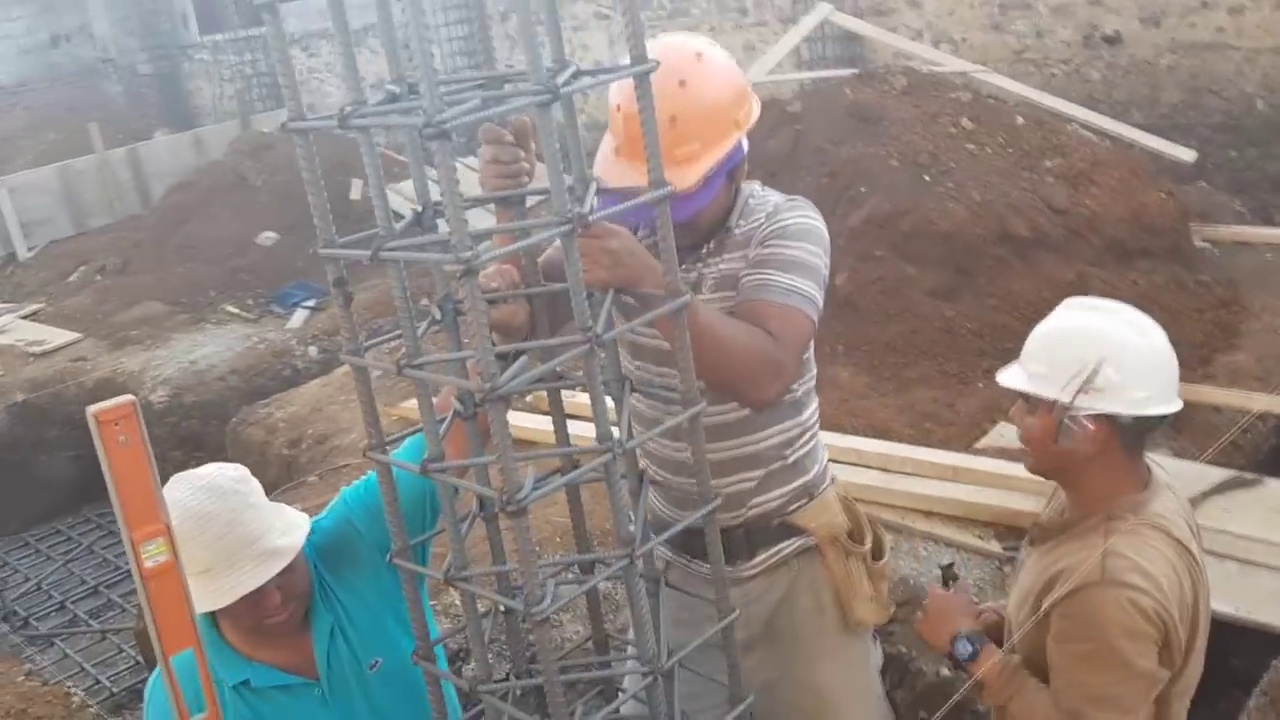helmet: (587, 25, 771, 202), (1012, 298, 1195, 438)
helmet-off: (156, 463, 324, 650)
helmet-on: (580, 12, 768, 264), (994, 292, 1192, 513)
person: (480, 13, 891, 716), (122, 264, 530, 720), (915, 304, 1222, 720)
